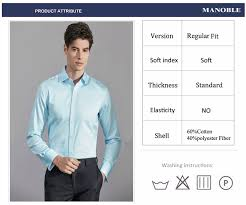F_dress pants: (41, 157, 105, 205)
F_shirt: (30, 69, 122, 172)
